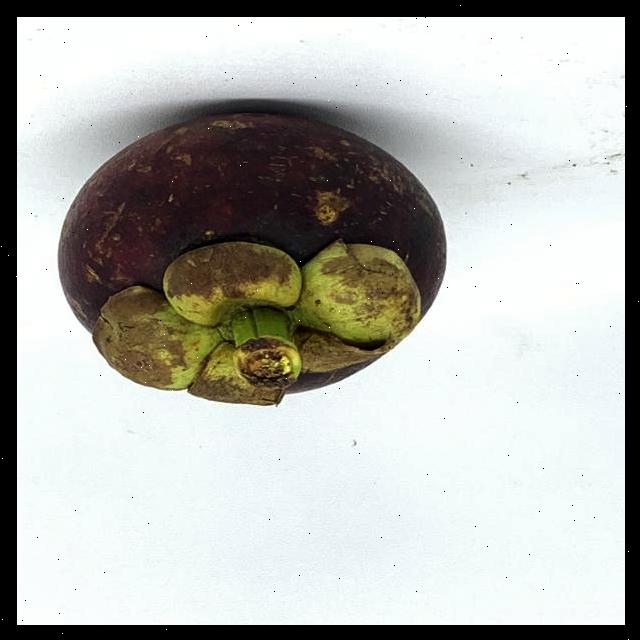mangosteen: (56, 105, 453, 452)
